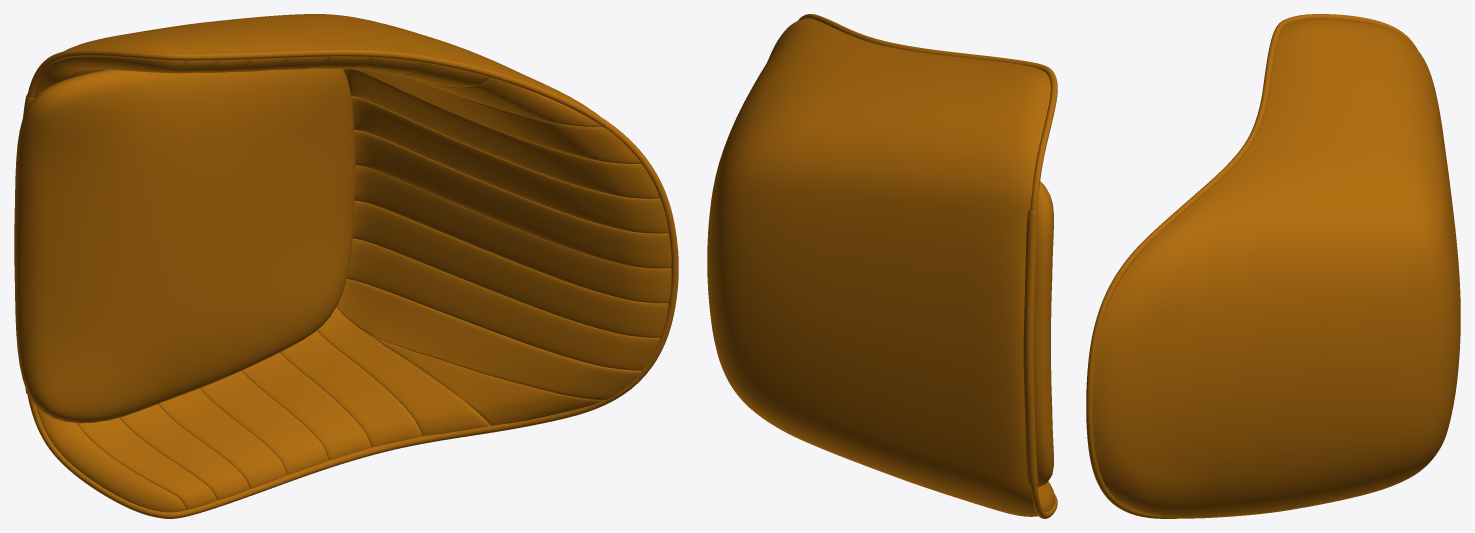
File: chair_base.obj
3 renders of one model, left to right at view 1: azimuth 30°, elevation 25°; view 2: azimuth 150°, elevation 25°; view 3: azimuth 270°, elevation 25°, orthographic. The views are drawn at different scales.
Visible parts, largest first — view 1: 3SM_fabric; view 2: 3SM_fabric; view 3: 3SM_fabric.
Boxes of the visible parts, bbox=[...] form: 3SM_fabric: bbox=[14, 14, 678, 518]; 3SM_fabric: bbox=[707, 14, 1057, 518]; 3SM_fabric: bbox=[1086, 14, 1460, 518].
Size of the model in its own units: 6.18 by 5.76 by 4.66.
